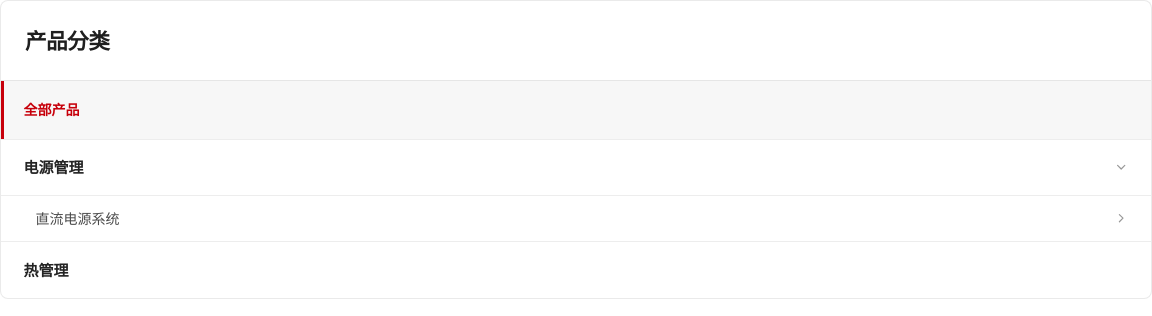
it: CategoryTree › collapses child categories when the dropdown toggle is clicked, and expands when clicked again
# Click toggle to collapse ("缩起来")
Click the button named "收起电源管理" at (1121, 168), box [1099,140,1143,195]
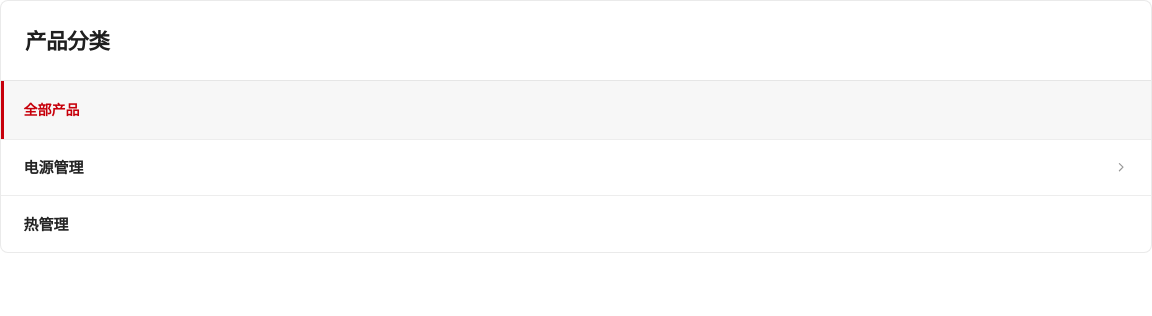
Expected: the icon with class "is-collapsed" is shown, [1114,160,1128,175]
Expected: the link "直流电源系统" is gone
# Click again to expand
Click the button named "收起电源管理" at (1121, 168), box [1099,140,1143,195]
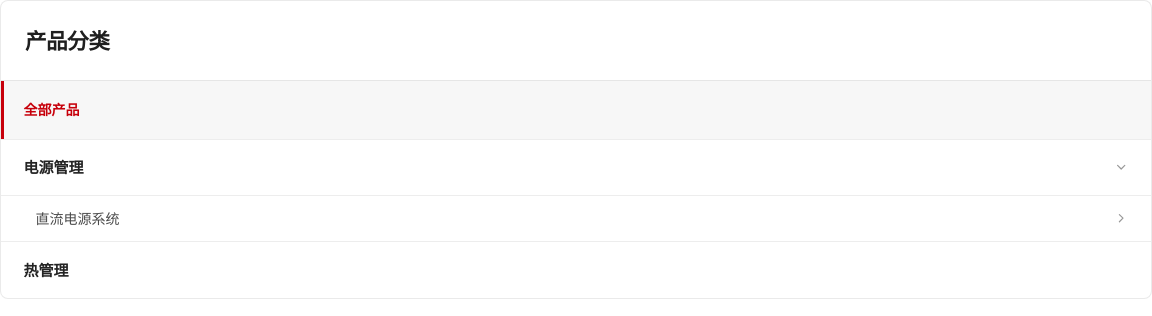
Expected: the text "直流电源系统" is shown, [35,208,119,229]
